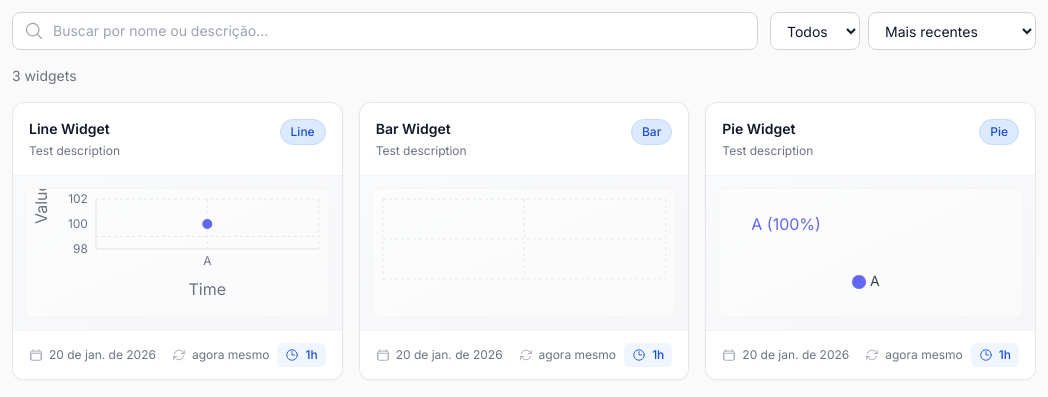
Test case: WidgetList › Chart Type Filter › should filter by chart type
Select "Barras" in the dropdown named "filtrar por tipo" at x=815, y=31, box [770, 12, 860, 50]
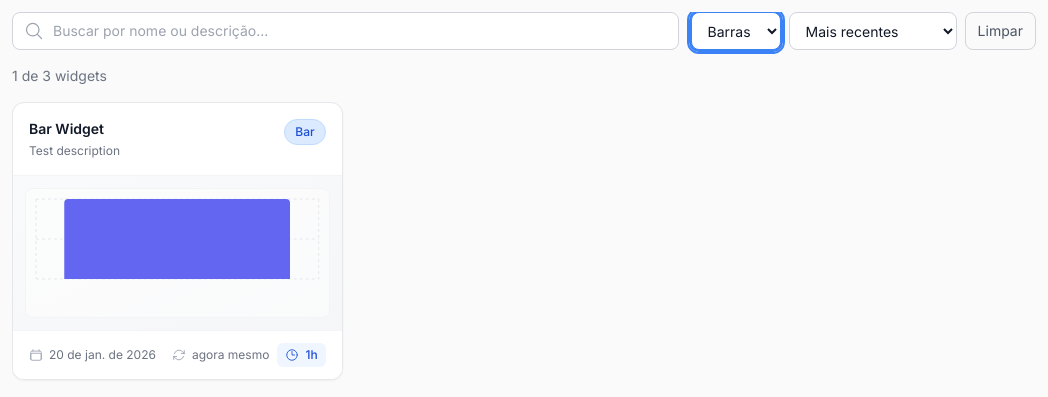
Expected: the heading "Bar Widget" is shown, [29, 120, 104, 137]
Expected: the heading "Line Widget" is gone
Expected: the heading "Pie Widget" is gone
